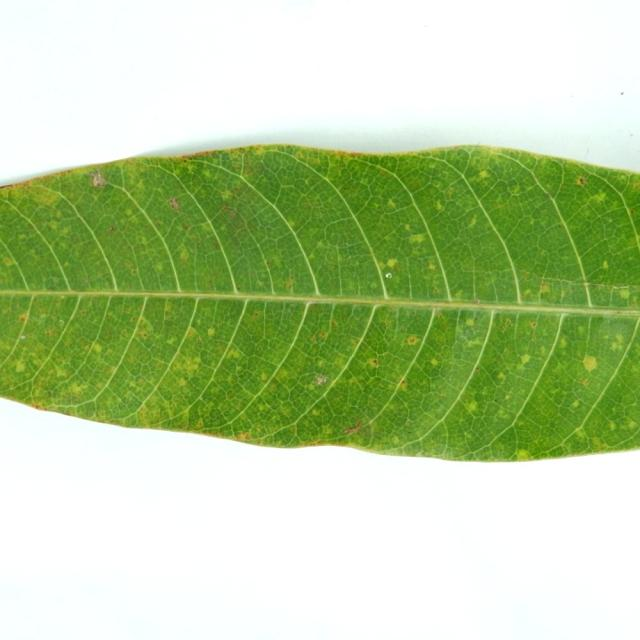Mango: (0, 146, 639, 460)
Powdery_Mildew: (218, 203, 261, 244), (573, 350, 604, 380), (25, 184, 61, 207), (405, 229, 433, 251), (458, 397, 483, 420), (175, 241, 195, 268), (135, 315, 154, 335), (181, 357, 200, 375), (473, 162, 490, 182), (310, 330, 330, 345), (610, 333, 626, 351), (53, 363, 70, 378), (282, 275, 295, 291), (590, 192, 607, 204), (408, 233, 426, 244), (466, 337, 484, 348), (70, 381, 84, 394), (226, 348, 241, 360), (221, 204, 234, 217), (219, 189, 233, 201), (268, 255, 282, 267), (573, 427, 587, 439), (500, 319, 514, 331), (185, 327, 198, 339), (508, 184, 522, 195), (370, 199, 384, 210), (519, 354, 531, 366), (619, 288, 631, 300), (385, 257, 398, 268), (15, 360, 26, 373), (44, 327, 57, 338), (468, 214, 478, 228), (467, 400, 478, 412), (592, 437, 604, 448), (517, 449, 530, 459), (406, 335, 419, 345), (453, 289, 464, 300), (539, 283, 551, 293), (367, 358, 379, 368), (237, 432, 250, 441), (92, 343, 103, 353), (155, 262, 165, 273), (348, 376, 359, 386), (18, 313, 29, 323), (559, 336, 568, 348), (399, 379, 408, 391), (578, 378, 590, 387), (387, 198, 397, 208), (430, 357, 440, 367), (177, 377, 187, 387), (207, 327, 216, 338), (3, 257, 14, 266), (570, 400, 581, 409), (258, 403, 269, 412), (427, 262, 437, 271), (465, 318, 475, 327), (49, 221, 59, 230), (286, 218, 296, 227), (315, 240, 325, 249), (520, 271, 530, 280), (139, 237, 148, 246), (124, 208, 133, 217), (497, 372, 506, 381), (627, 419, 636, 428), (195, 419, 204, 428), (435, 201, 443, 211), (445, 188, 454, 196), (168, 337, 177, 345), (609, 421, 617, 430), (318, 331, 327, 339), (577, 177, 586, 185), (310, 334, 318, 343), (260, 373, 268, 381), (316, 358, 324, 366), (529, 320, 537, 328), (602, 260, 609, 269), (311, 409, 320, 416), (78, 309, 87, 316), (404, 224, 411, 232), (251, 311, 259, 318), (628, 208, 636, 215), (82, 278, 90, 285), (331, 320, 338, 327), (433, 286, 440, 293), (183, 224, 190, 231), (295, 152, 303, 158), (131, 268, 138, 274), (437, 313, 444, 319), (546, 192, 552, 199), (584, 282, 591, 288), (238, 148, 245, 153)
